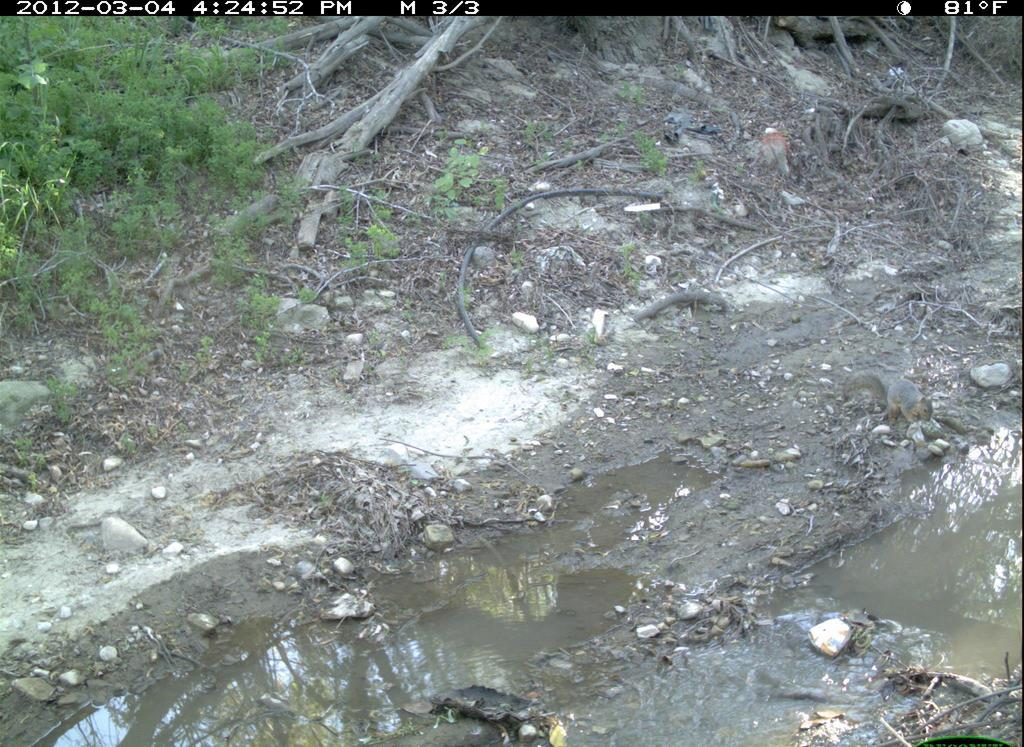squirrel: (838, 361, 941, 443)
